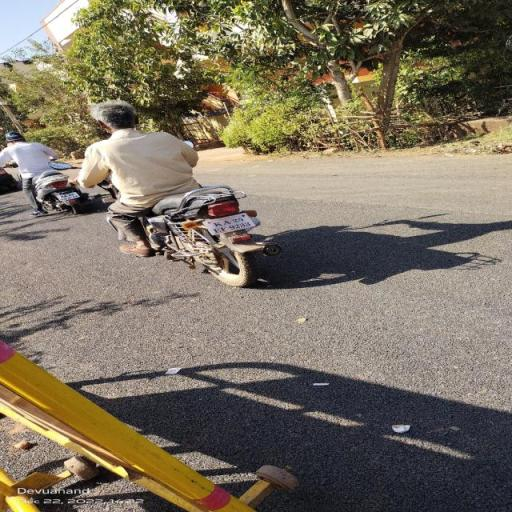bike: (46, 102, 284, 288)
numberplate: (203, 206, 255, 236)
withouthelmet: (97, 102, 133, 129)
